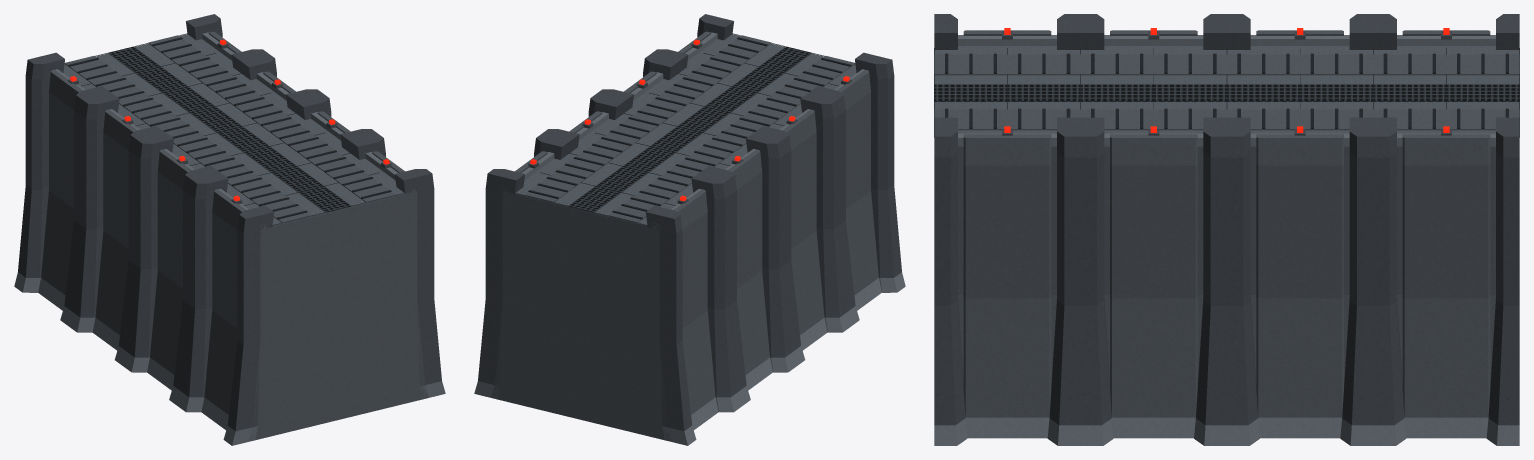
Rendered from straight.glb.
3 views of the same model, side by side, from view 1: azimuth 30°, elevation 25°; view 2: azimuth 150°, elevation 25°; view 3: azimuth 270°, elevation 25° (orthographic). The views are drawn at different scales.
Visible parts, largest first — view 1: straight-lod0-roof0, straight-lod0-base0, straight-lod0-floor0; view 2: straight-lod0-roof0, straight-lod0-base0, straight-lod0-floor0; view 3: straight-lod0-roof0, straight-lod0-base0, straight-lod0-floor0.
Boxes of the visible parts, x1,y1,x2,y2 form: straight-lod0-roof0: (25,14,434,245); straight-lod0-base0: (14,185,445,445); straight-lod0-floor0: (25,86,434,344); straight-lod0-roof0: (485,14,894,245); straight-lod0-base0: (474,185,905,445); straight-lod0-floor0: (485,86,894,344); straight-lod0-roof0: (934,14,1519,173); straight-lod0-base0: (934,295,1519,445); straight-lod0-floor0: (934,162,1519,305).
Size of what is drawn, in the model's own units: 40.8 by 40.8 by 72.08.
7 materials, 7 textured.
